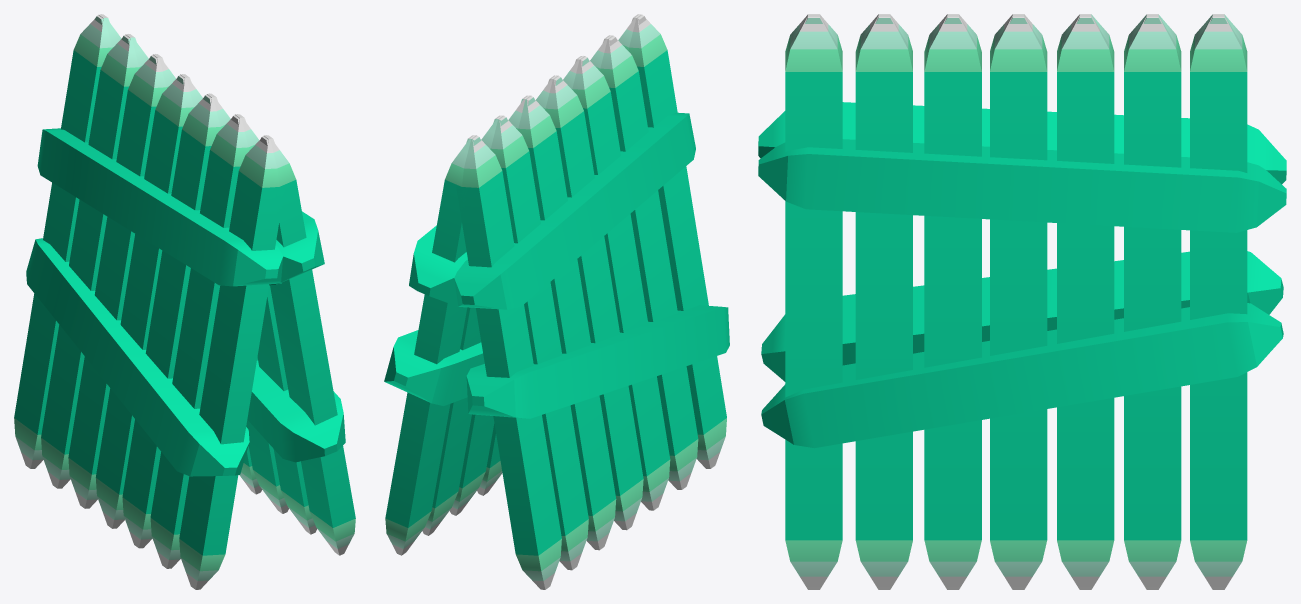
Rendered from fencetype1.fbx.
The picture shows the model from 3 angles, left to right: view 1: azimuth 30°, elevation 25°; view 2: azimuth 150°, elevation 25°; view 3: azimuth 270°, elevation 25°; orthographic projection. The views are drawn at different scales.
Parts seen in each view (by area): view 1: fence type 1; view 2: fence type 1; view 3: fence type 1.
Part boxes in pixels (x1,y1,x2,y2): fence type 1: (14,14,355,589); fence type 1: (384,14,729,589); fence type 1: (758,14,1286,589).
Bounding box in the file's own units: 1.3 × 3.21 × 2.89.
